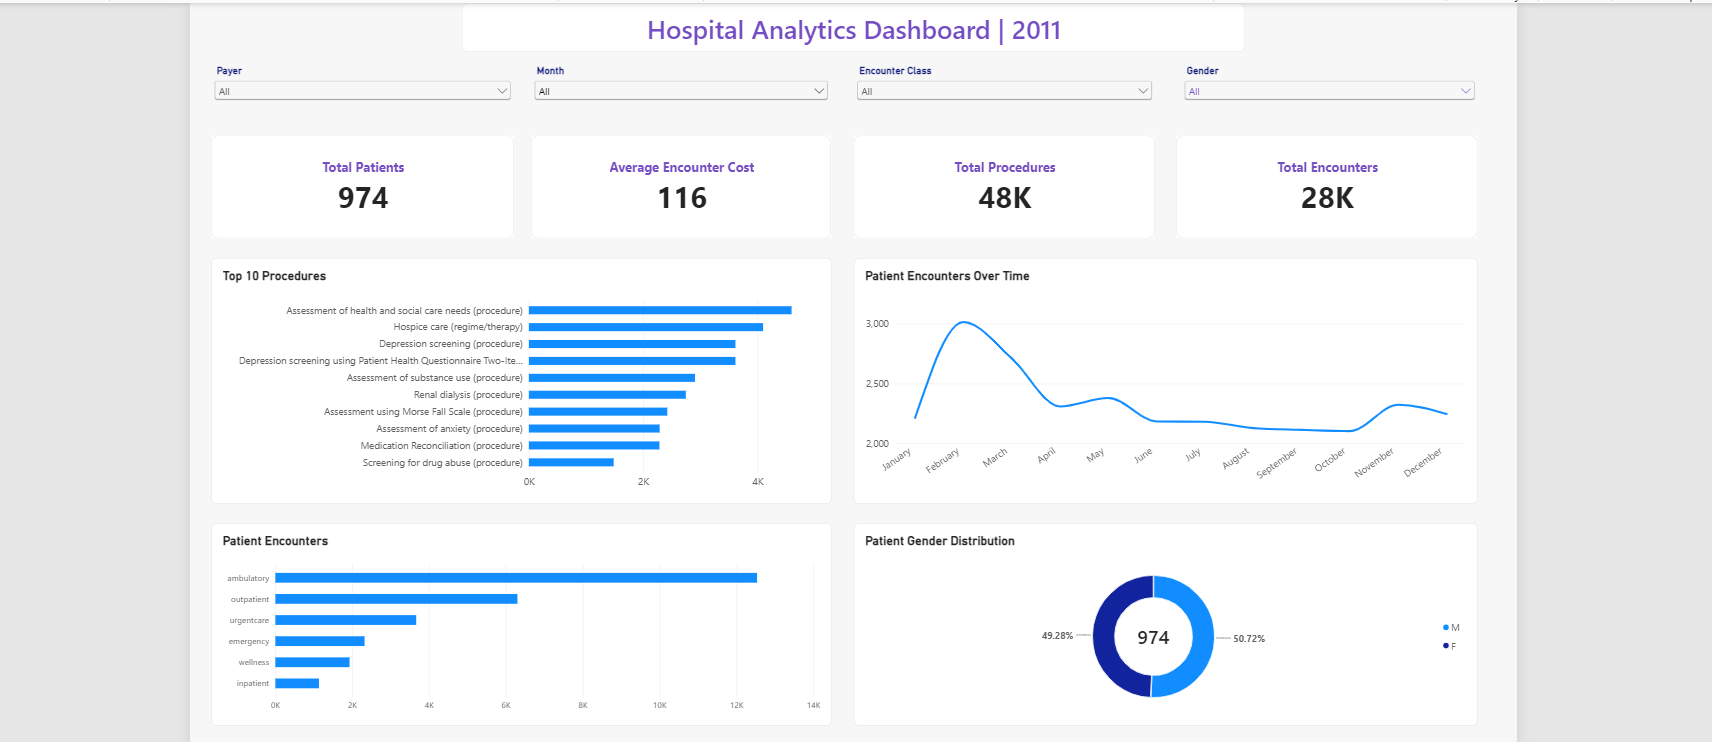

The dashboard page shown, as its layout file describes it:
{"tool":"powerbi","page":{"name":"Page 1","canvas":[1920,1080],"ordinal":0},"visuals":[{"type":"cardVisual","fields":{"Data":["encounters_clean.Total Patients"]},"box":[30,191.8,438.8,149.8],"z":0},{"type":"cardVisual","fields":{"Data":["encounters_clean.Average Encounter Cost"]},"box":[494.4,191.8,434.5,149.8],"z":1000},{"type":"cardVisual","fields":{"Data":["encounters_clean.Total Procedures"]},"box":[961.2,191.8,436.7,149.8],"z":2000},{"type":"cardVisual","fields":{"Data":["encounters_clean.Total Encounters"]},"box":[1427.9,191.8,436.7,149.8],"z":3000},{"type":"clusteredBarChart","title":"Patient Encounters","fields":{"Category":["encounters_clean.ENCOUNTERCLASS"],"Y":["CountNonNull(encounters_clean.Id)"]},"box":[30,753.2,898.8,293.4],"z":4000},{"type":"donutChart","title":"Patient Gender Distribution","fields":{"Category":["patients_clean.GENDER"],"Y":["CountNonNull(patients_clean.Id)"]},"box":[961.2,753.2,903.4,293.4],"z":5000},{"type":"textbox","box":[1185.3,0,110.9,71.6],"z":5001},{"type":"lineChart","title":"Patient Encounters Over Time","fields":{"Category":["encounters_clean.START.Variation.Date Hierarchy.Month"],"Y":["CountNonNull(encounters_clean.Id)"]},"box":[961.2,369.7,903.4,355.8],"z":5002},{"type":"clusteredBarChart","title":"Top 10 Procedures","fields":{"Category":["procedures_clean.DESCRIPTION"],"Y":["CountNonNull(procedures_clean.DESCRIPTION)"]},"box":[30,369.7,898.8,355.8],"z":5003},{"type":"cardVisual","fields":{"Data":["encounters_clean.Dashboard Title"]},"box":[393.9,0,1132.1,71.6],"z":5009},{"type":"slicer","title":"Payers","fields":{"Values":["payers_clean.NAME"]},"box":[30,87.8,439,62.4],"z":5010},{"type":"slicer","fields":{"Values":["patients_clean.GENDER"]},"box":[1434.8,87.8,429.7,62.4],"z":5011},{"type":"slicer","fields":{"Values":["encounters_clean.ENCOUNTERCLASS"]},"box":[961.2,87.8,436.7,62.4],"z":5012},{"type":"slicer","fields":{"Values":["encounters_clean.START.Variation.Date Hierarchy.Month"]},"box":[494.4,87.8,434.4,62.4],"z":5013}]}

Visuals, with their boxes on the page's 1920x1080 design canvas (x1, y1, x2, y2). These are canvas units, not pixel positions in the 1712x742 screenshot, which may show the page scaled, cropped or inside an application window:
cardVisual - encounters_clean.Total Patients: [x1=30, y1=192, x2=469, y2=342]
cardVisual - encounters_clean.Average Encounter Cost: [x1=494, y1=192, x2=929, y2=342]
cardVisual - encounters_clean.Total Procedures: [x1=961, y1=192, x2=1398, y2=342]
cardVisual - encounters_clean.Total Encounters: [x1=1428, y1=192, x2=1865, y2=342]
"Patient Encounters" clusteredBarChart: [x1=30, y1=753, x2=929, y2=1047]
"Patient Gender Distribution" donutChart: [x1=961, y1=753, x2=1865, y2=1047]
textbox: [x1=1185, y1=0, x2=1296, y2=72]
"Patient Encounters Over Time" lineChart: [x1=961, y1=370, x2=1865, y2=726]
"Top 10 Procedures" clusteredBarChart: [x1=30, y1=370, x2=929, y2=726]
cardVisual - encounters_clean.Dashboard Title: [x1=394, y1=0, x2=1526, y2=72]
"Payers" slicer: [x1=30, y1=88, x2=469, y2=150]
slicer - patients_clean.GENDER: [x1=1435, y1=88, x2=1864, y2=150]
slicer - encounters_clean.ENCOUNTERCLASS: [x1=961, y1=88, x2=1398, y2=150]
slicer - encounters_clean.START.Variation.Date Hierarchy.Month: [x1=494, y1=88, x2=929, y2=150]
